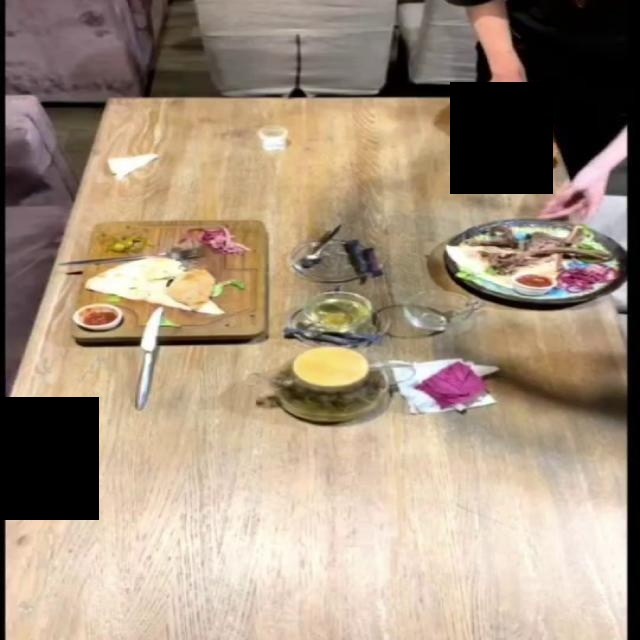meat: (67, 222, 270, 349), (462, 202, 634, 337)
tea: (262, 349, 387, 420)
